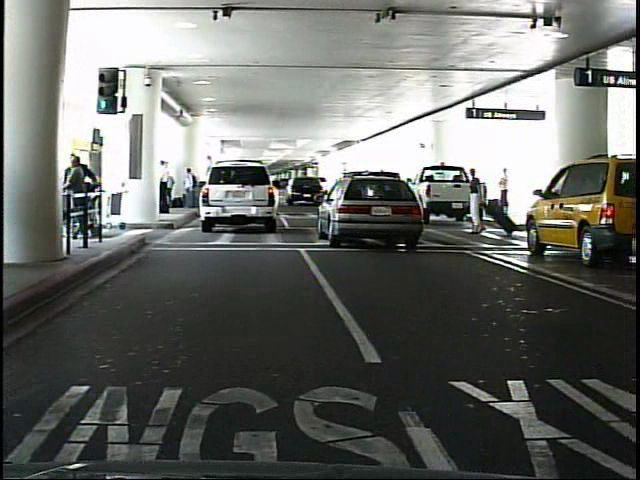person: (468, 166, 489, 235), (500, 166, 515, 217), (164, 157, 175, 217), (187, 167, 201, 210)
